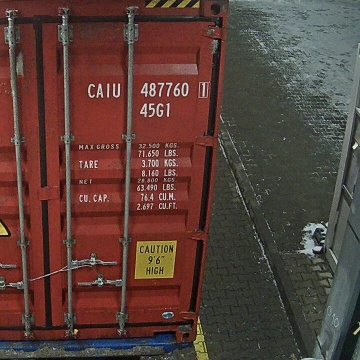serial_id: (88, 82, 206, 97)
